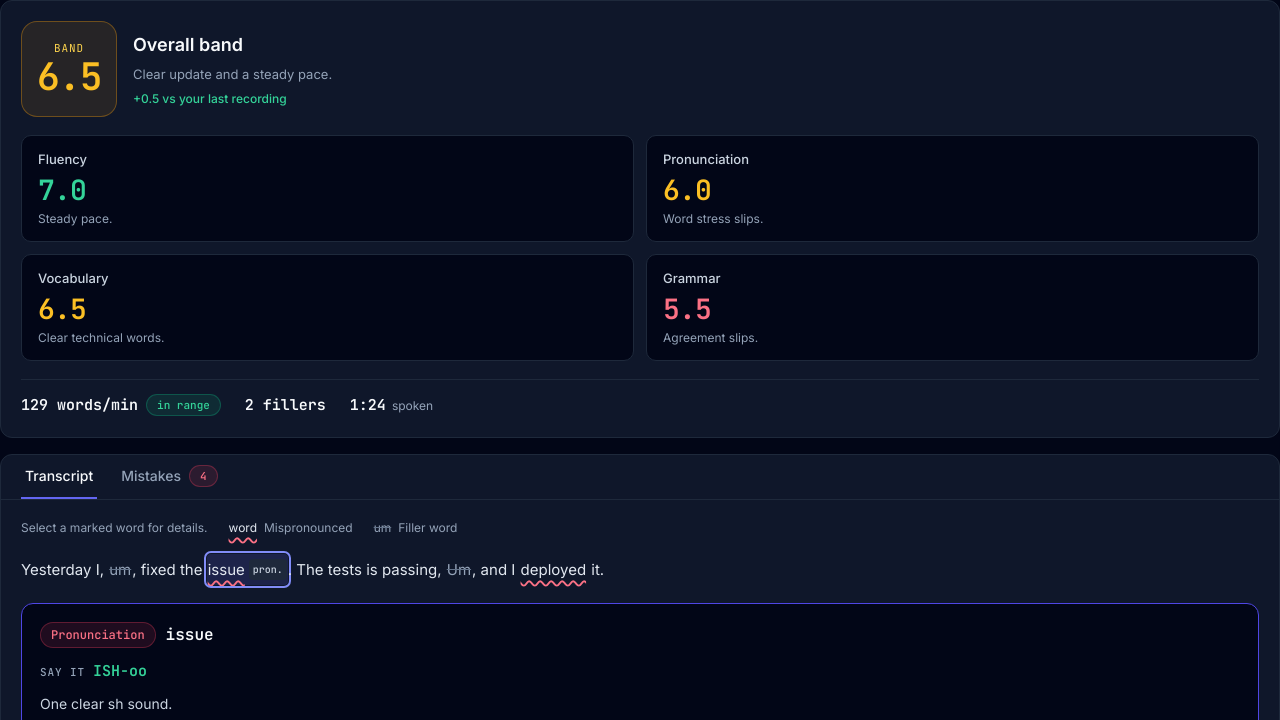
GradingPanel transcript tab › shows the respelling of a clicked pronunciation mark
The image size is (1280, 720).
Step 1. Click the button with aria-label "Pronunciation: deployed" → (553, 569), box [520, 554, 587, 585]
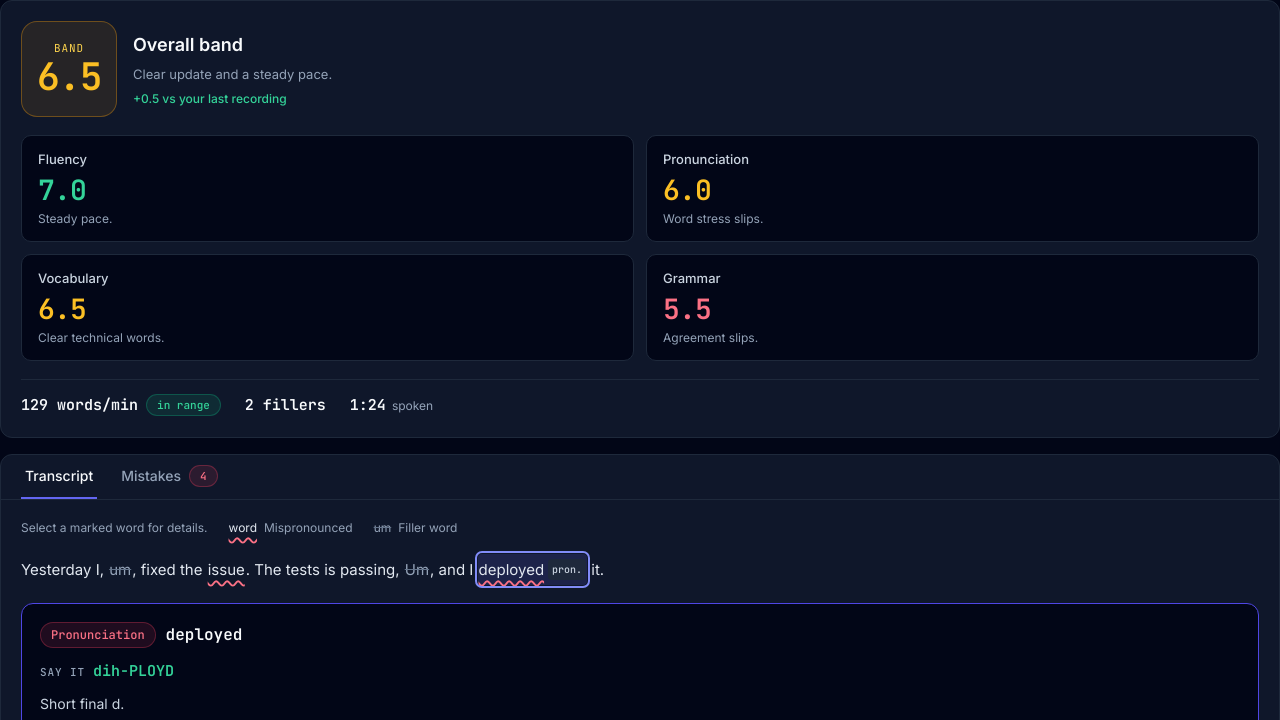
Expected: the text "dih-PLOYD" is shown, [93, 660, 174, 683]
Step 2. Click the button with aria-label "Pronunciation: issue" → (226, 569), box [207, 554, 246, 585]
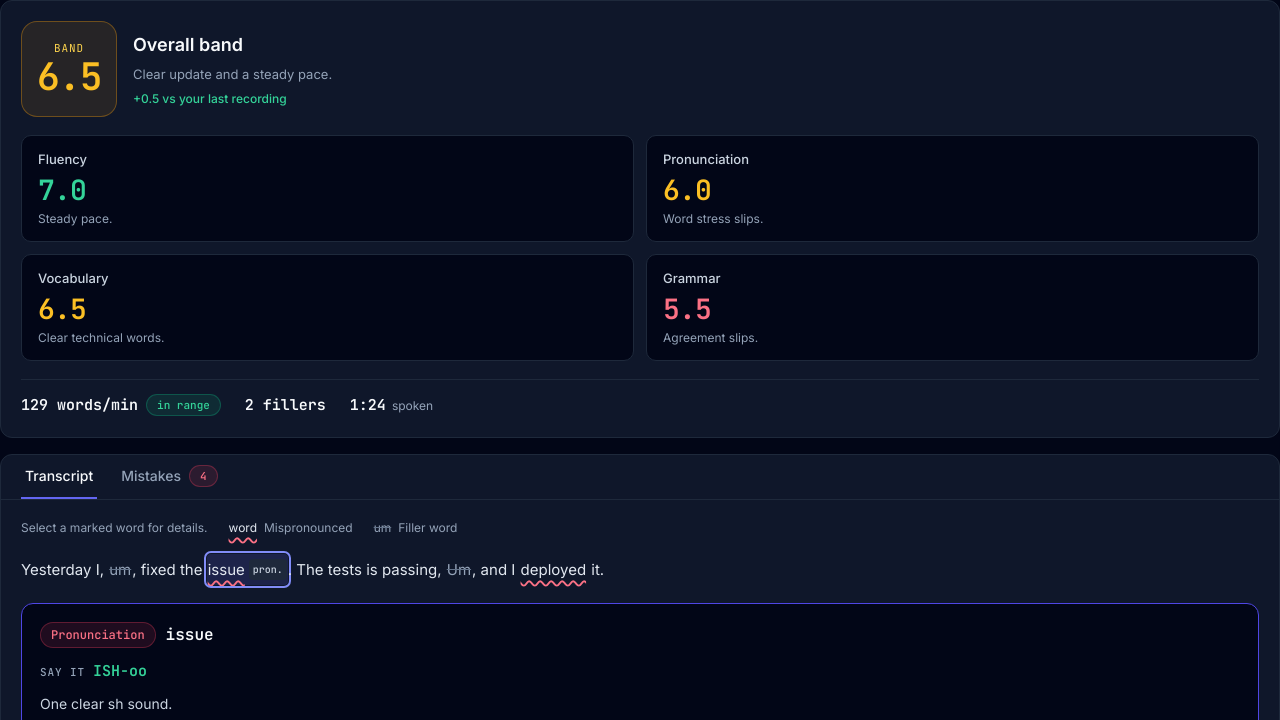
Expected: the text "ISH-oo" is shown, [93, 660, 147, 683]
